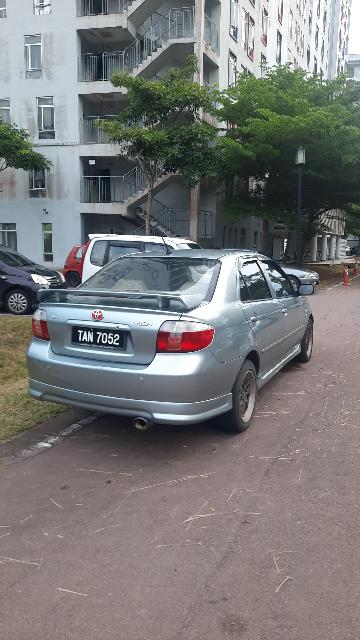License_Plate: (72, 321, 131, 357)
car: (26, 250, 325, 434)
